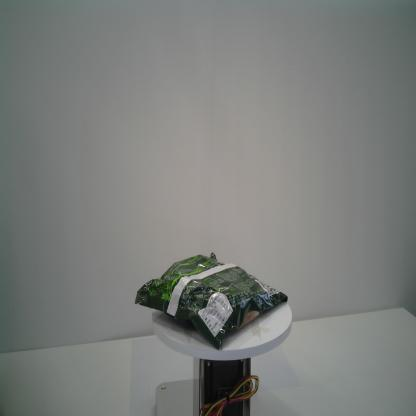Instant Noodles: (133, 249, 290, 352)
